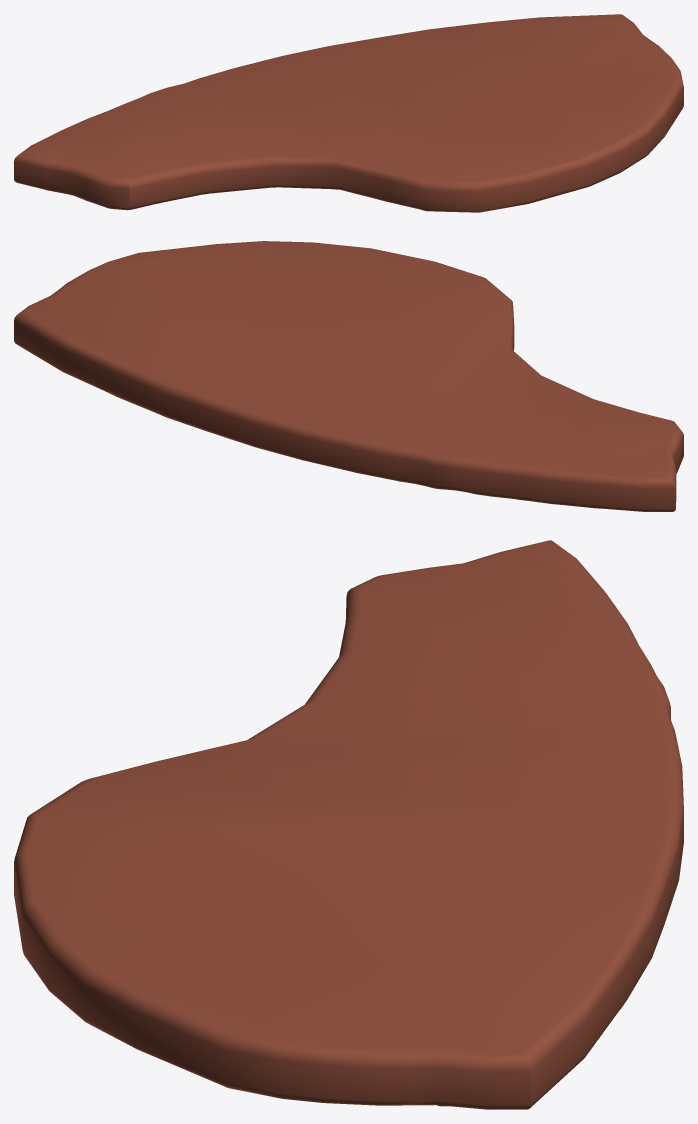
Rendered from Et pişmiş.fbx.
3 views of the same model, one above another, from view 1: azimuth 30°, elevation 25°; view 2: azimuth 150°, elevation 25°; view 3: azimuth 270°, elevation 25° (orthographic). The views are drawn at different scales.
Visible parts, largest first — view 1: Cube; view 2: Cube; view 3: Cube.
Part boxes in pixels (x1=…): Cube: x1=14, y1=14, x2=683, y2=212; Cube: x1=14, y1=241, x2=683, y2=511; Cube: x1=14, y1=540, x2=683, y2=1109.
Size of the model in its own units: 65 by 3.08 by 35.
